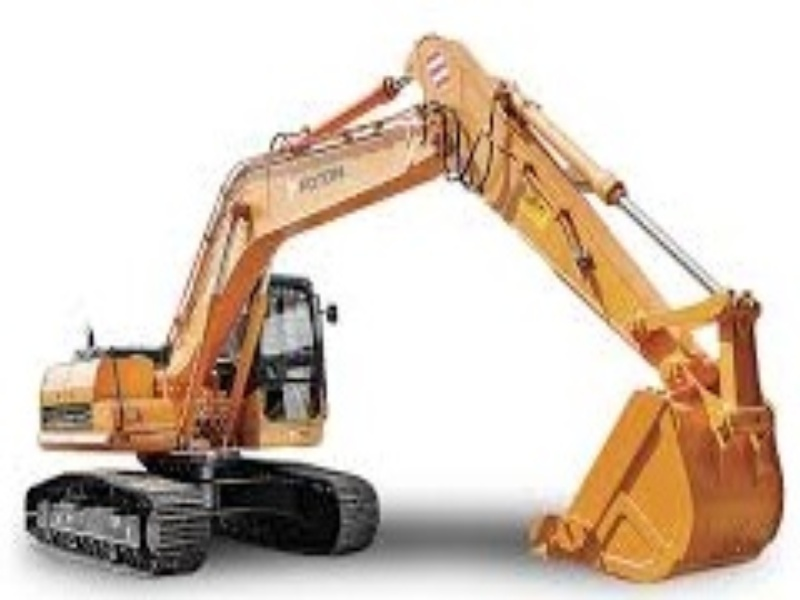wajueji: (11, 141, 444, 600)
